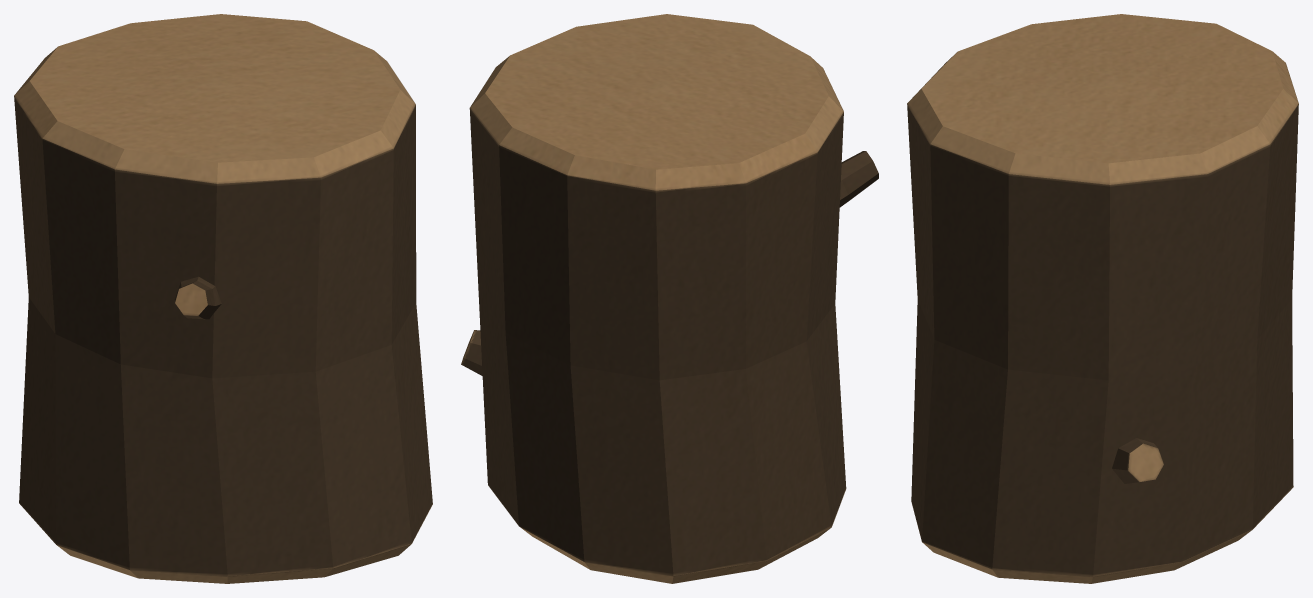
Rendered from Log_Stool_01.fbx.
3 renders of one model, left to right at view 1: azimuth 30°, elevation 25°; view 2: azimuth 150°, elevation 25°; view 3: azimuth 270°, elevation 25°, orthographic. The views are drawn at different scales.
Visible parts, largest first — view 1: Log_Stool_01; view 2: Log_Stool_01; view 3: Log_Stool_01.
Part boxes in pixels (x1,y1,x2,y2): Log_Stool_01: (14,14,432,583); Log_Stool_01: (461,14,878,583); Log_Stool_01: (907,14,1298,583).
Bounding box in the file's own units: 46.24 × 53.21 × 44.52.
